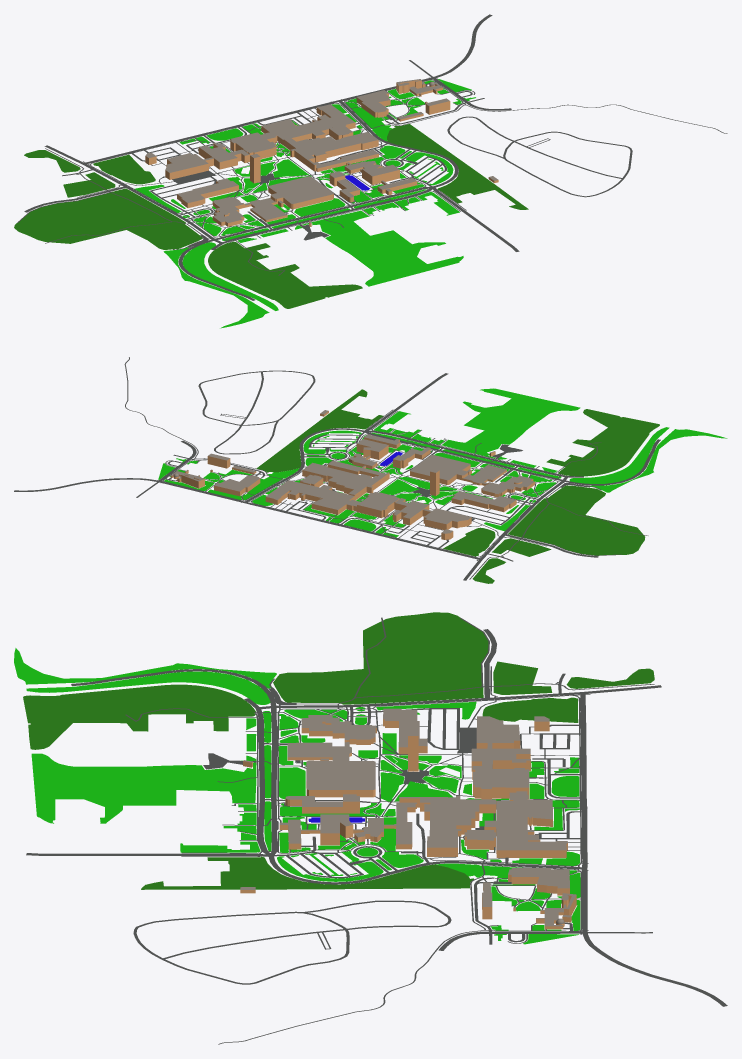
3 views of the same model, one above another, from view 1: azimuth 30°, elevation 25°; view 2: azimuth 150°, elevation 25°; view 3: azimuth 270°, elevation 25° (orthographic). The views are drawn at different scales.
Visible parts, largest first — view 1: None_forest, None_vegetation, None_buildings, None_roads_tertiary, None_paths_footway, None_roads_service, None_areas_pedestrian; view 2: None_forest, None_vegetation, None_buildings, None_roads_tertiary, None_paths_footway, None_roads_service; view 3: None_vegetation, None_forest, None_buildings, None_roads_tertiary, None_paths_footway, None_roads_service, None_areas_pedestrian.
Boxes of the visible parts, box(x1,y1,x2,y2) form: None_forest: box(14, 124, 528, 308); None_vegetation: box(134, 79, 475, 328); None_buildings: box(145, 79, 498, 226); None_roads_tertiary: box(24, 14, 519, 300); None_paths_footway: box(17, 77, 727, 275); None_roads_service: box(62, 60, 632, 229); None_areas_pedestrian: box(172, 170, 329, 240); None_forest: box(256, 389, 659, 583); None_vegetation: box(158, 388, 727, 537); None_buildings: box(170, 410, 534, 539); None_roads_tertiary: box(14, 373, 660, 580); None_paths_footway: box(124, 357, 648, 560); None_roads_service: box(136, 370, 538, 561); None_vegetation: box(14, 648, 580, 944); None_forest: box(23, 612, 654, 889); None_buildings: box(240, 708, 576, 929); None_roads_tertiary: box(26, 629, 727, 1006); None_paths_footway: box(125, 617, 590, 1044); None_roads_service: box(133, 673, 652, 984); None_areas_pedestrian: box(203, 727, 484, 829).
Size of the model in its own units: 1316 by 50.3 by 918.
